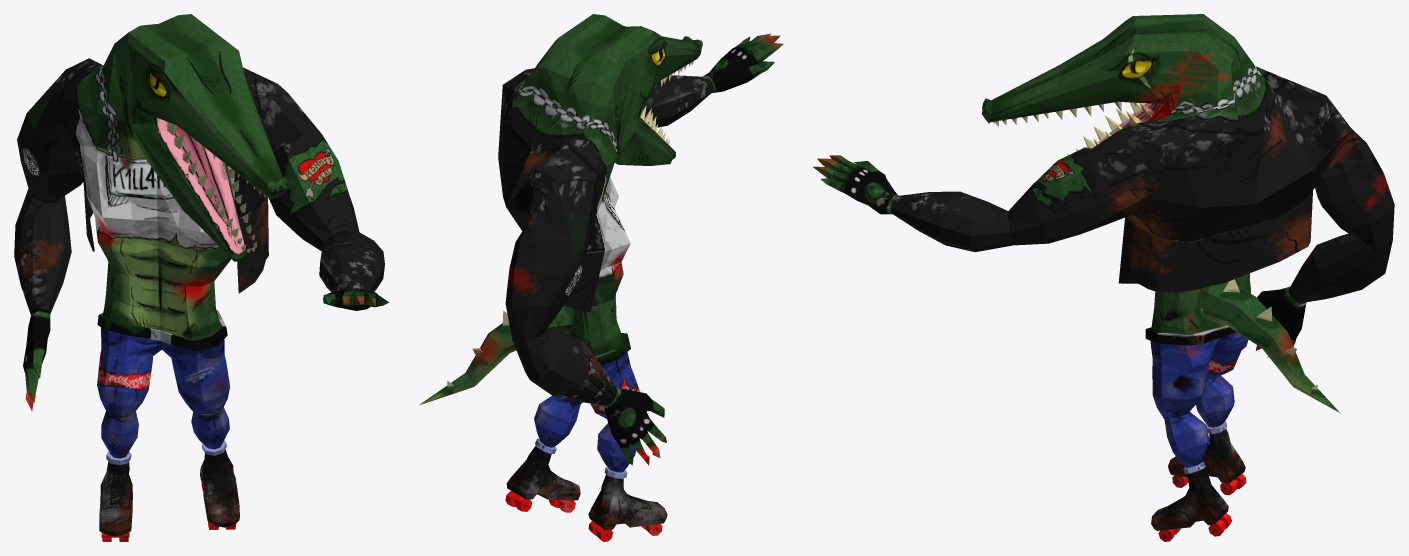
Rendered from cocodrilaBonesSelect_000033.obj.
3 renders of one model, left to right at view 1: azimuth 30°, elevation 25°; view 2: azimuth 150°, elevation 25°; view 3: azimuth 270°, elevation 25°, orthographic. The views are drawn at different scales.
Parts seen in each view (by area): view 1: Crocodile.002_Cylinder.002; view 2: Crocodile.002_Cylinder.002; view 3: Crocodile.002_Cylinder.002.
Boxes of the visible parts, <box> form: Crocodile.002_Cylinder.002: <box>14,14,389,541</box>; Crocodile.002_Cylinder.002: <box>419,14,783,541</box>; Crocodile.002_Cylinder.002: <box>813,14,1394,541</box>.
Bounding box in the file's own units: 3.01 × 6.69 × 7.18.
